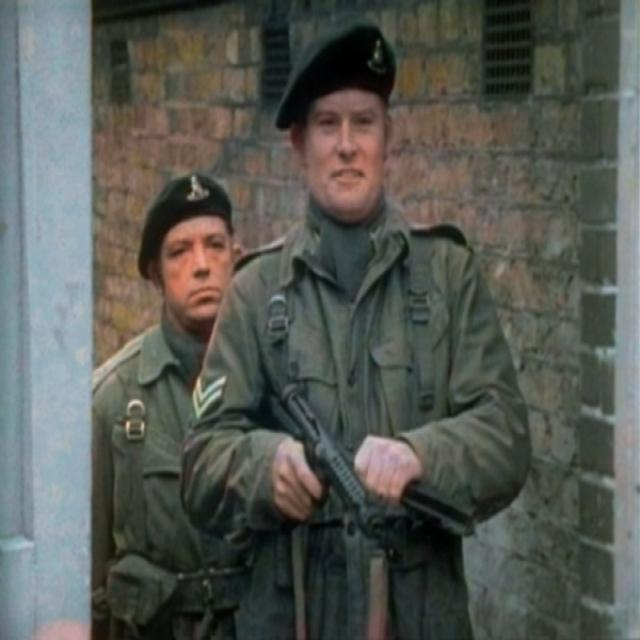rifle: (275, 370, 408, 576)
